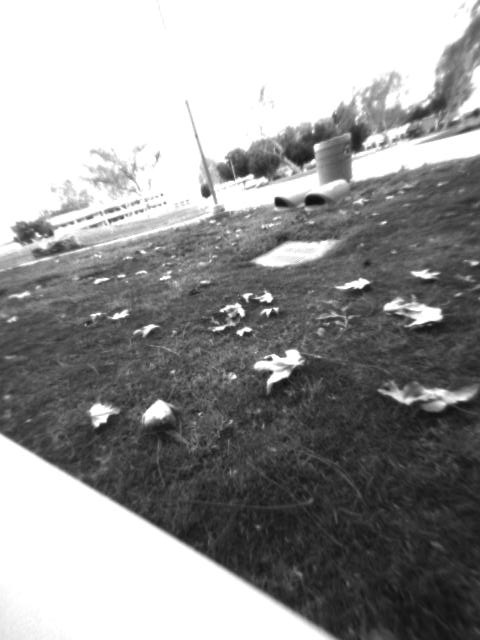trashcan: (311, 129, 355, 190)
